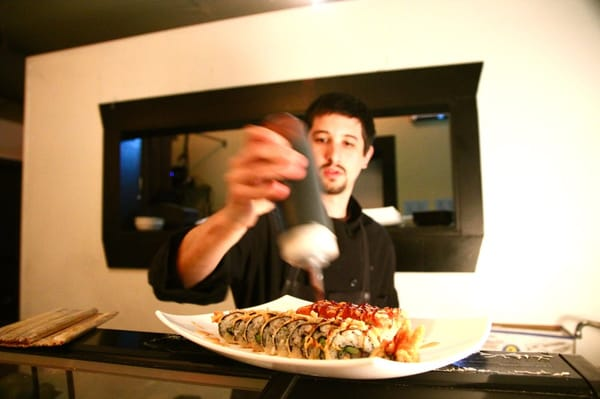pizza: (150, 92, 401, 312)
